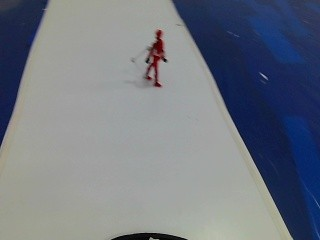pedestrian: (140, 24, 172, 88)
